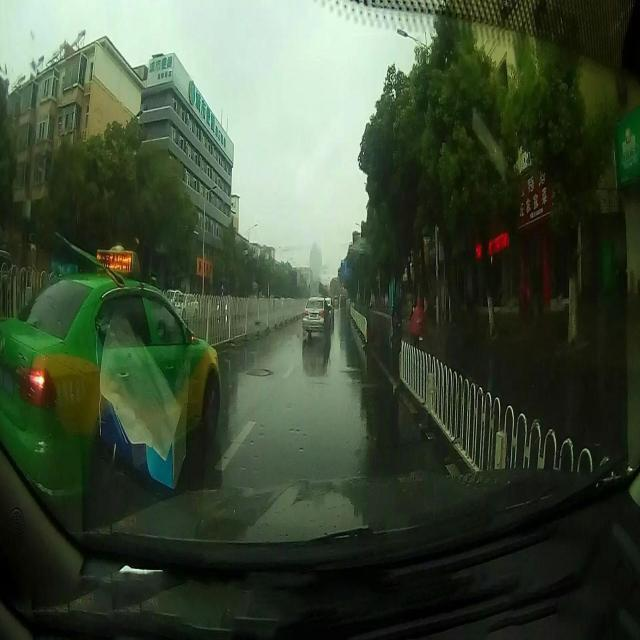car: (0, 245, 222, 501), (302, 296, 331, 340), (174, 292, 198, 321)
